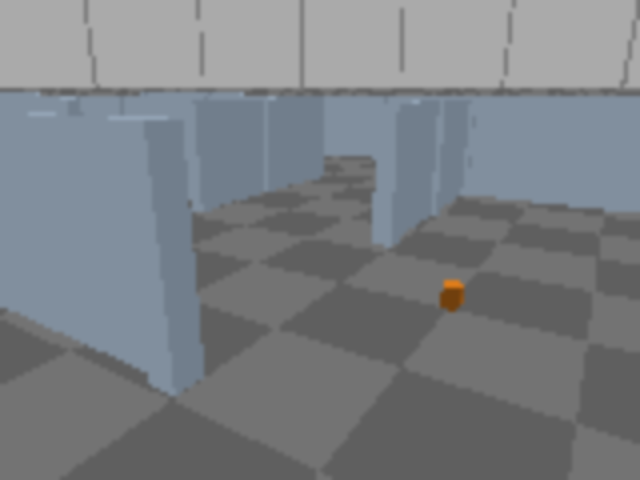puck: (441, 281, 464, 310)
